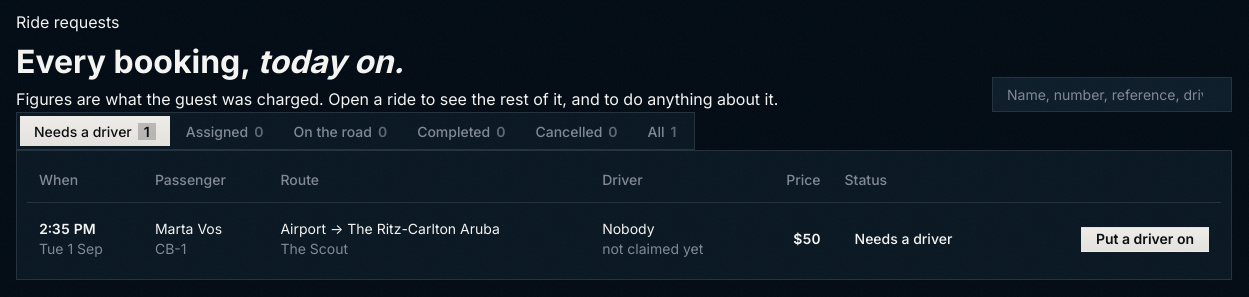
it: Ride requests › tells an empty search apart from a covered board
In the search field: point(1112, 95) top-left (992, 77), bottom-right (1232, 112), type "zzzz"
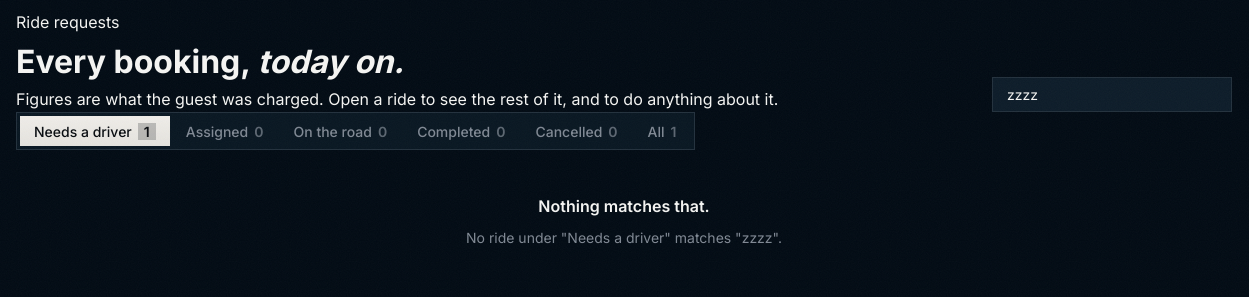
Expected: the text "Nothing matches that." is shown, top-left (538, 196), bottom-right (710, 216)
